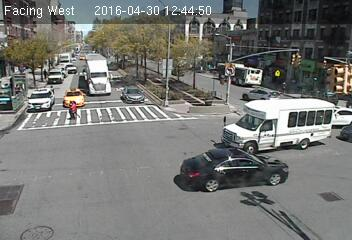neg: (291, 88, 311, 115), (176, 61, 191, 80), (149, 46, 162, 63), (115, 122, 127, 138), (247, 80, 257, 94), (128, 90, 138, 103)
pos: (67, 98, 80, 116), (39, 67, 50, 82)
